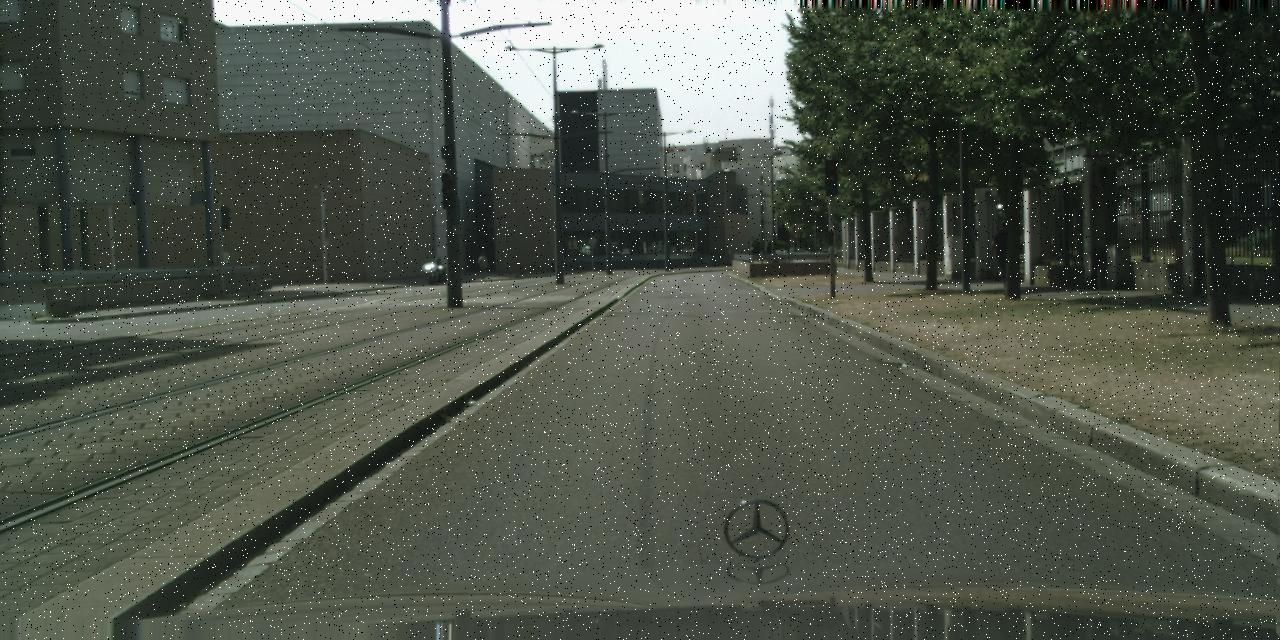ped: (992, 220, 1019, 286), (478, 252, 488, 278), (433, 257, 442, 280)
